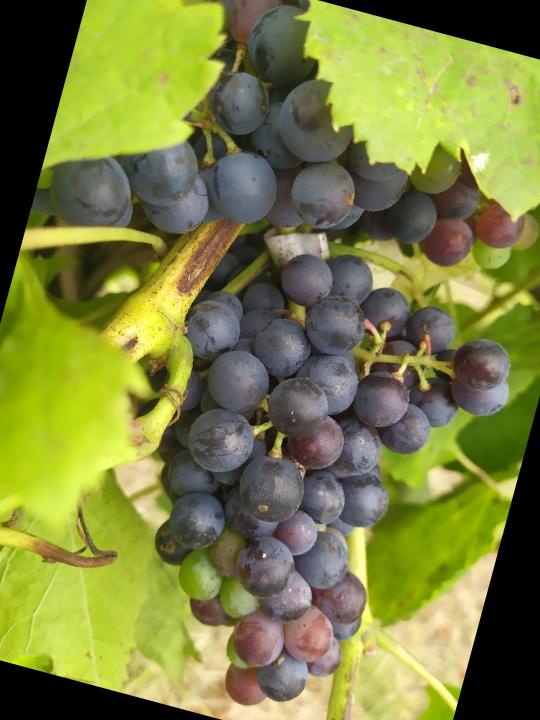grape: (75, 214, 535, 720)
